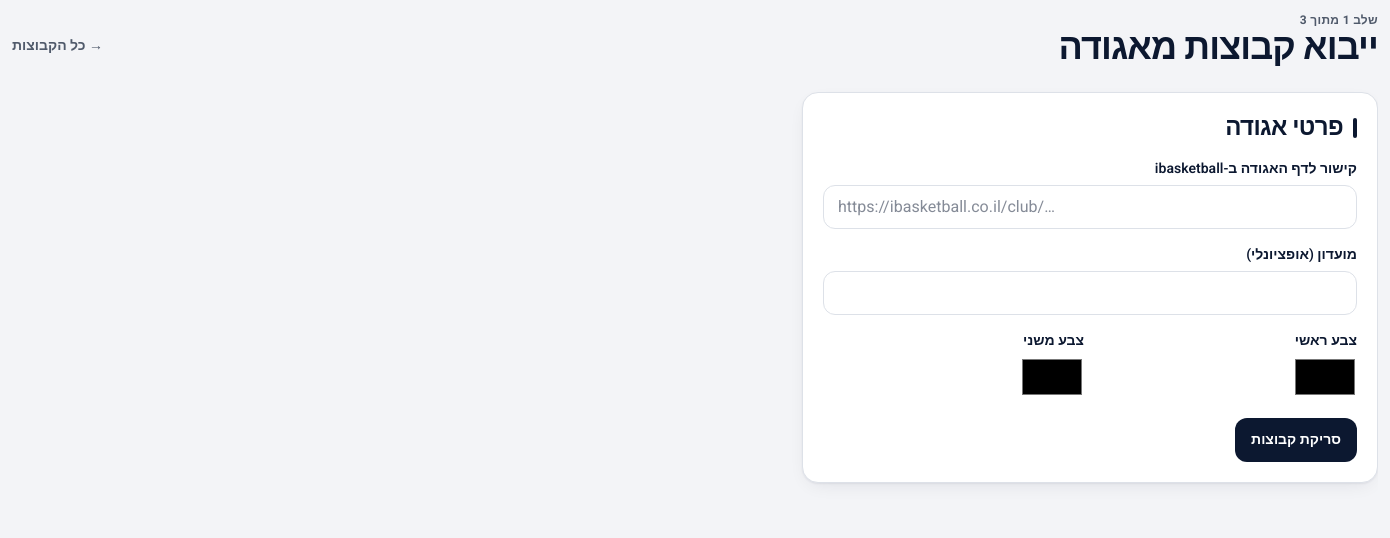
AdminClubImportView › shows an error and keeps the form when the scan fails
Type "https://ibasketball.co.il/club/3901-2/" into the field with id "club-url" at (1090, 207), box [823,185,1357,229]
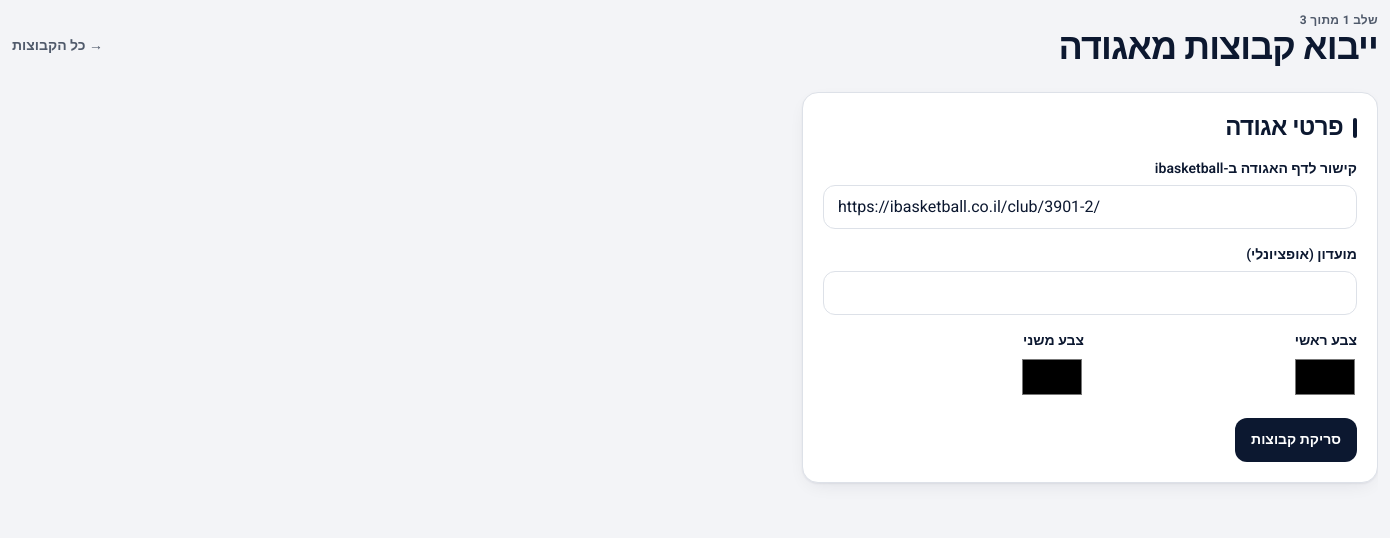
Type "#112233" into the colour field with id "club-primary-color" at (1325, 377), box [1293,355,1357,399]
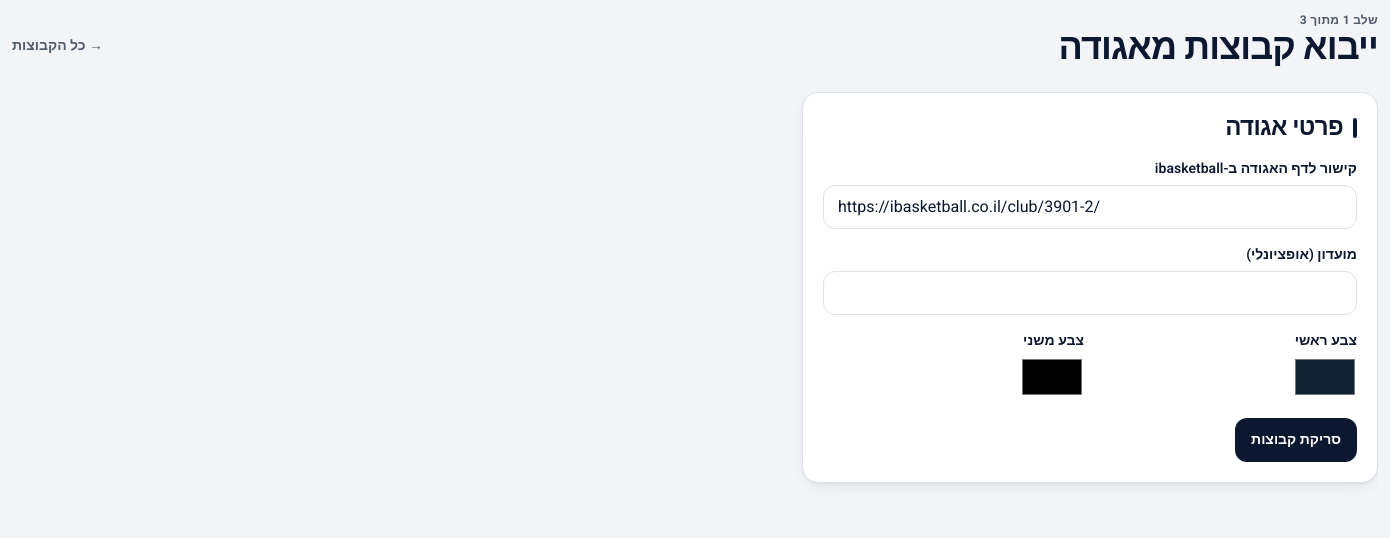
Type "#445566" into the colour field with id "club-secondary-color" at (1052, 377), box [1020,355,1084,399]
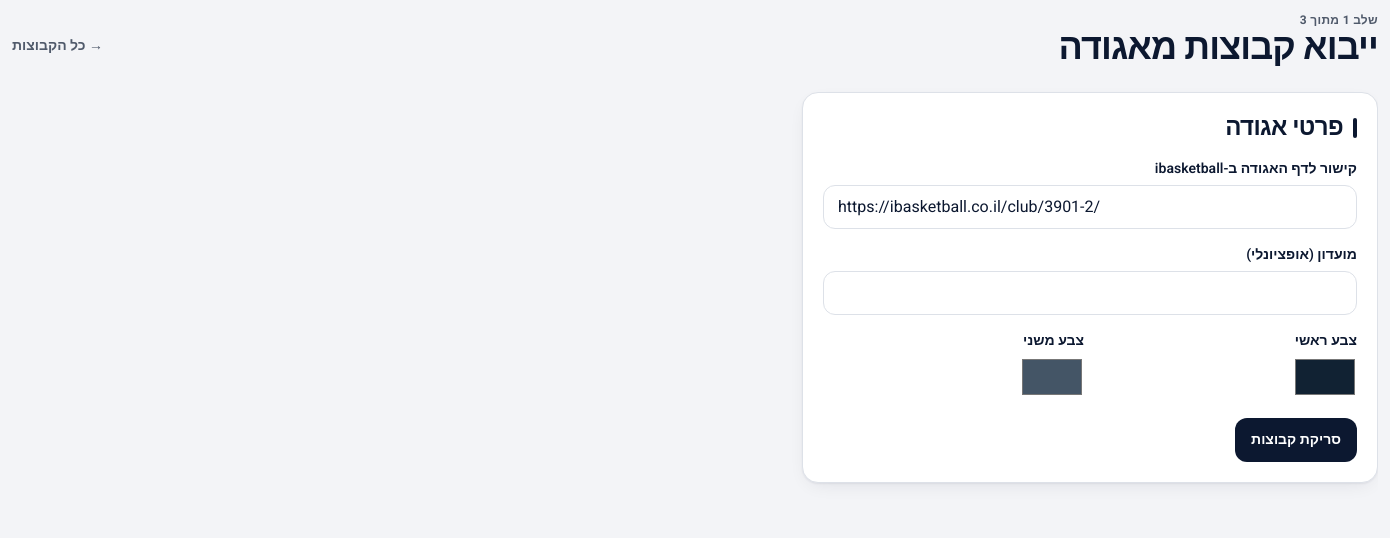
Submit the form, box [802,92,1378,483]
Wait 3000 ms
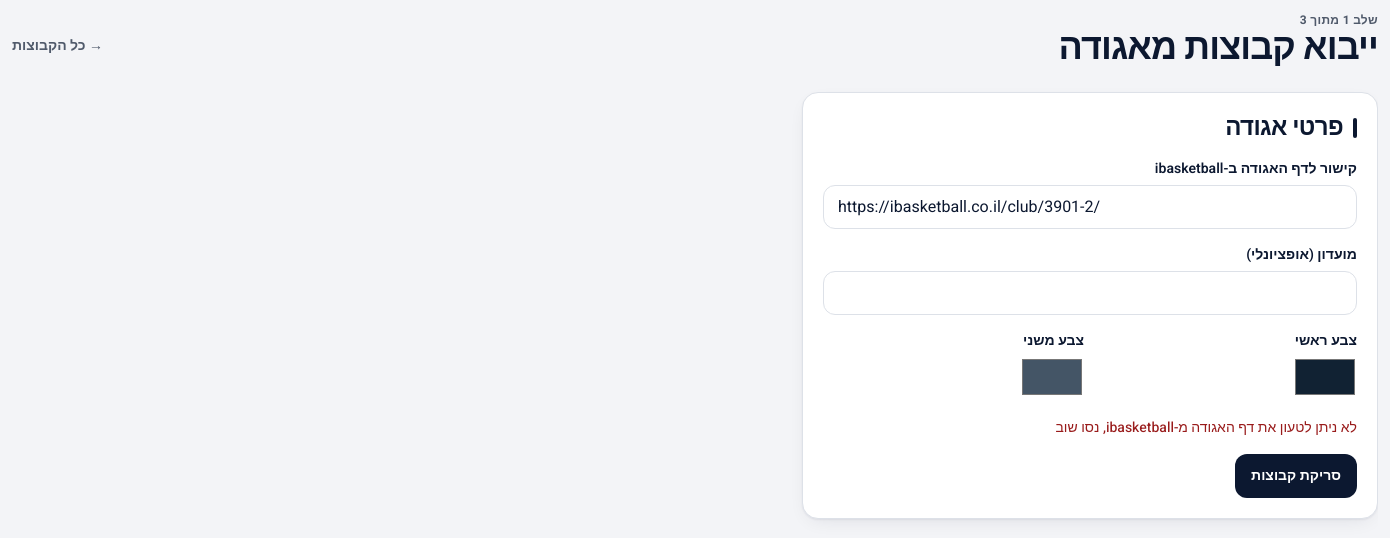
Result: the message "לא ניתן לטעון את דף האגודה מ-ibasketball, נסו שוב" is shown at [1056,417,1357,438]
